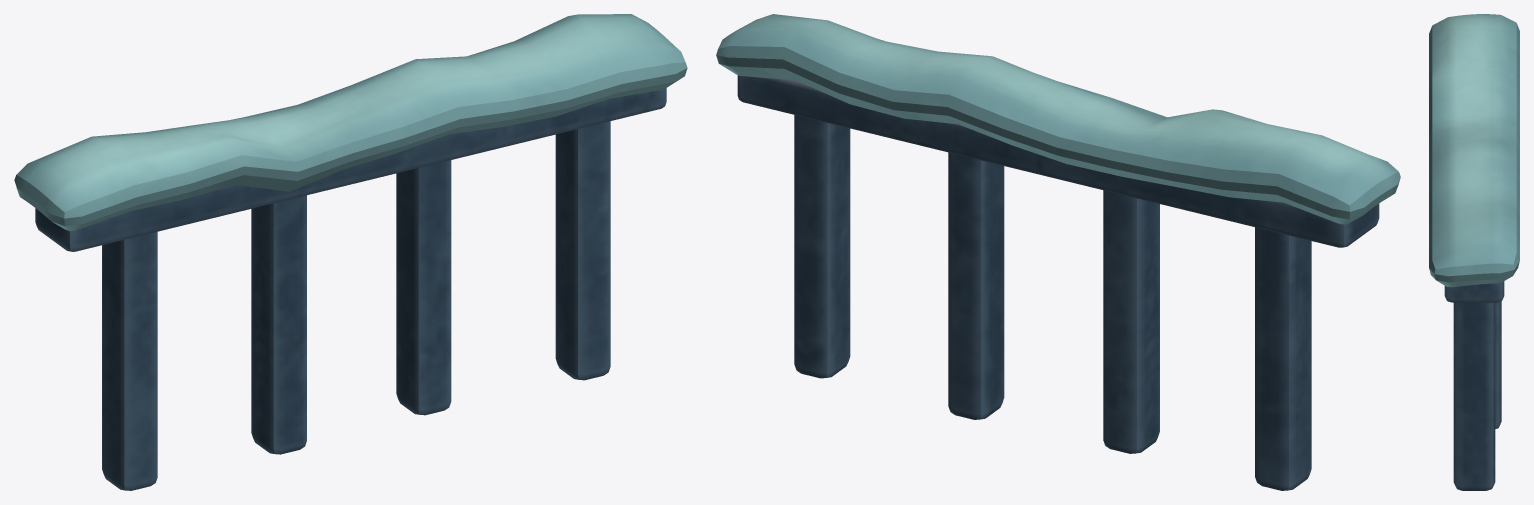
Rendered from SM_LimitFence_V2.fbx.
The picture shows the model from 3 angles, left to right: view 1: azimuth 30°, elevation 25°; view 2: azimuth 150°, elevation 25°; view 3: azimuth 270°, elevation 25°; orthographic projection. The views are drawn at different scales.
Visible parts, largest first — view 1: SM_LimitFenceSnow, SM_LimitFence2, SM_LimitFence3, SM_LimitFence5, SM_LimitFence4, SM_LimitFence1; view 2: SM_LimitFenceSnow, SM_LimitFence1, SM_LimitFence4, SM_LimitFence3, SM_LimitFence2, SM_LimitFence5; view 3: SM_LimitFenceSnow, SM_LimitFence5, SM_LimitFence1, SM_LimitFence4.
Boxes of the visible parts, left/top/right/bottom form: SM_LimitFenceSnow: left=14, top=14, right=687, bottom=231; SM_LimitFence2: left=102, top=231, right=157, bottom=490; SM_LimitFence3: left=251, top=195, right=306, bottom=454; SM_LimitFence5: left=555, top=121, right=610, bottom=380; SM_LimitFence4: left=396, top=160, right=451, bottom=415; SM_LimitFence1: left=35, top=88, right=666, bottom=251; SM_LimitFenceSnow: left=716, top=14, right=1400, bottom=224; SM_LimitFence1: left=737, top=75, right=1379, bottom=247; SM_LimitFence4: left=948, top=152, right=1004, bottom=419; SM_LimitFence3: left=1103, top=190, right=1159, bottom=453; SM_LimitFence2: left=1255, top=227, right=1311, bottom=490; SM_LimitFence5: left=794, top=115, right=850, bottom=378; SM_LimitFenceSnow: left=1429, top=14, right=1519, bottom=287; SM_LimitFence5: left=1453, top=302, right=1495, bottom=490; SM_LimitFence1: left=1444, top=281, right=1504, bottom=302; SM_LimitFence4: left=1495, top=301, right=1501, bottom=428.
Size of the model in its own units: 3.48 by 1.79 by 0.5359.
